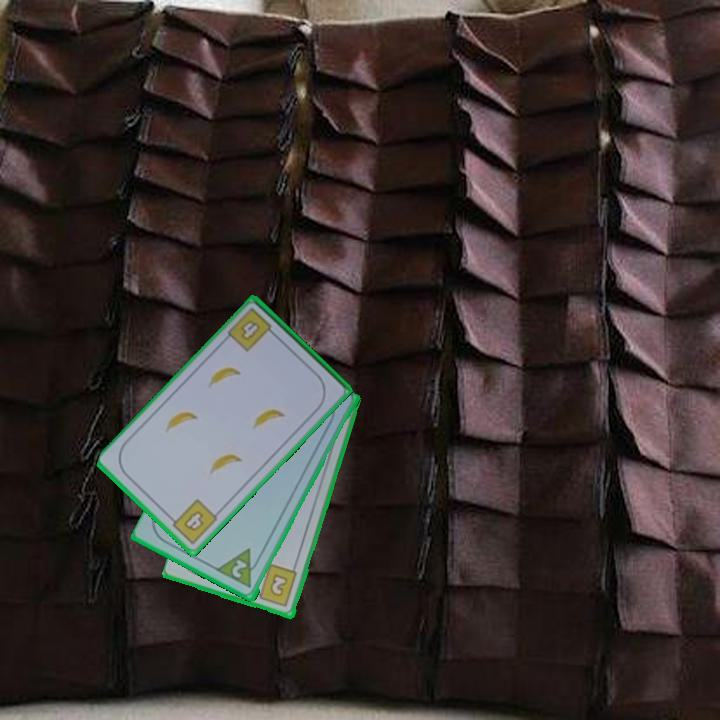2b: (250, 561, 300, 610)
2p: (228, 556, 250, 581)
4b: (165, 496, 221, 547), (224, 304, 279, 355)
